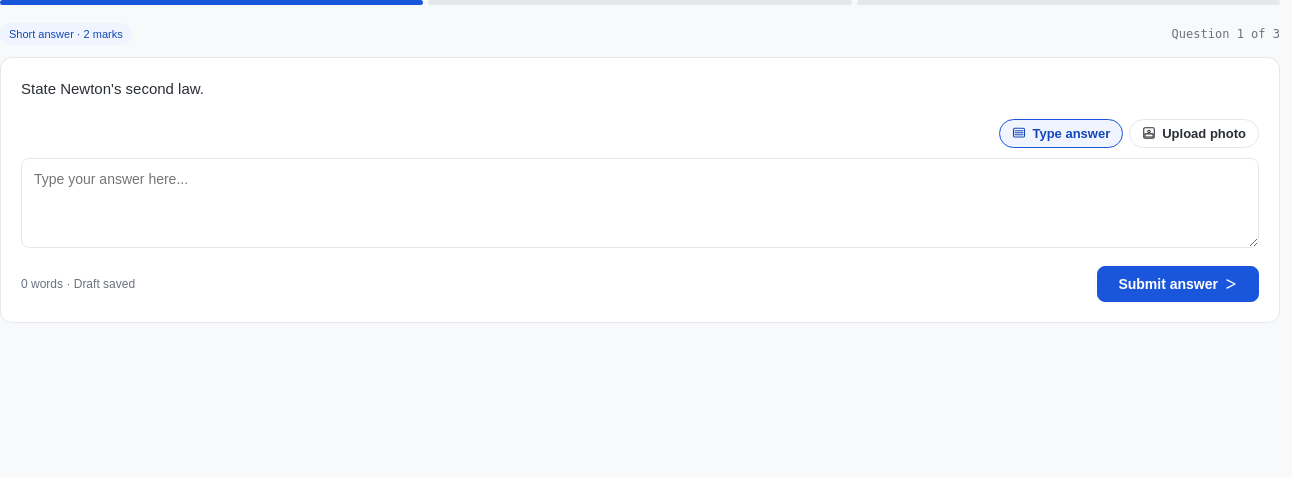
Scenario: short answers, drafts and self-marking › shows when AI marking returns when today's allowance is used up
Type "answer" into the text box with placeholder "Type your answer here..." at (640, 202), box [21,158,1259,248]
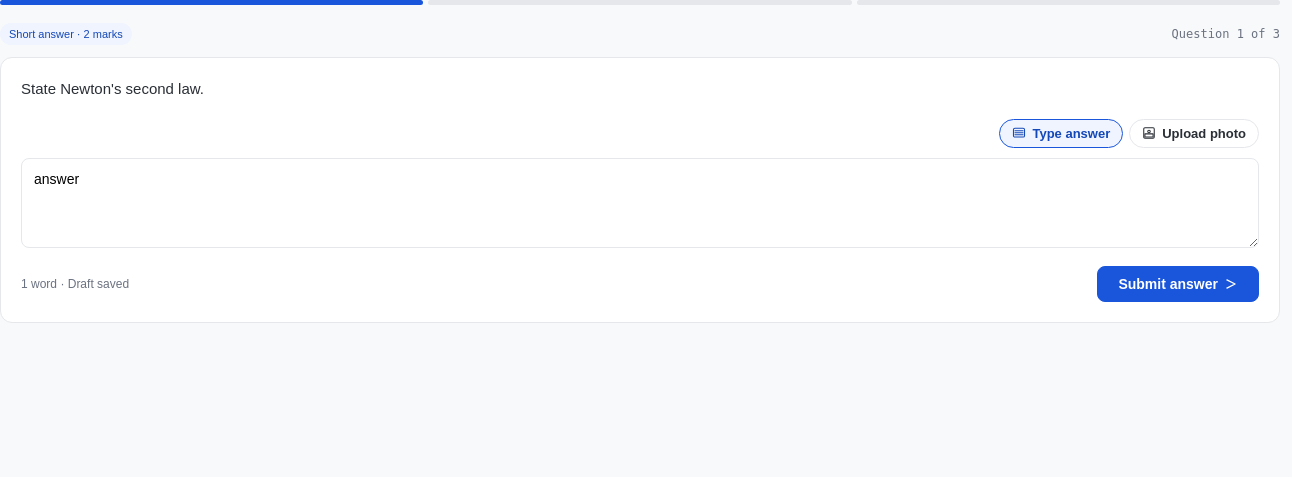
Click the button "Submit answer" at (1178, 284), box [1097,266,1259,302]
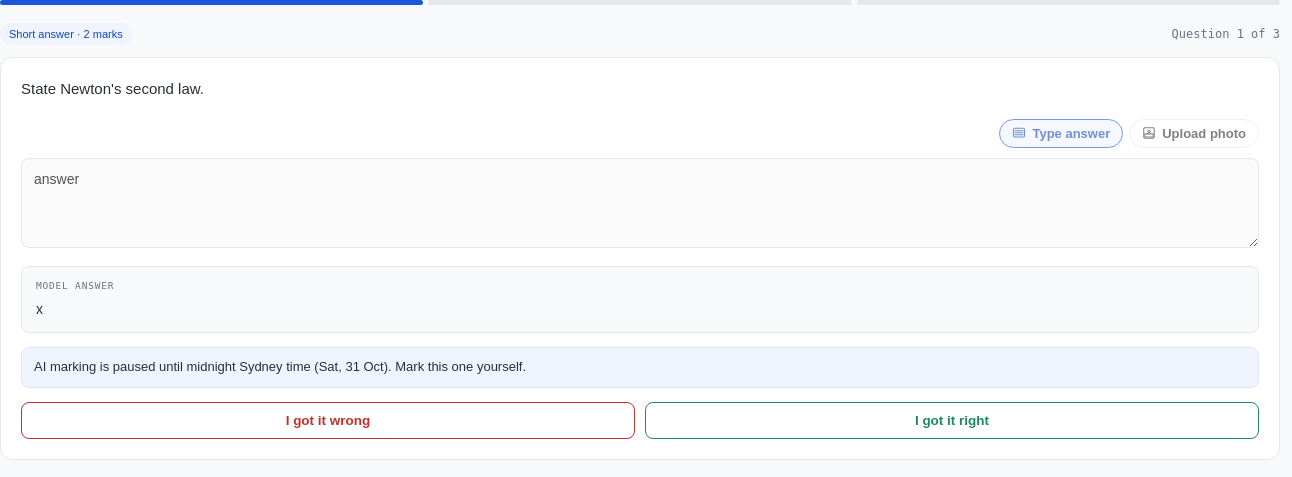
Expected: the text "AI marking is paused until midnight Sydney time" is shown, [34,359,526,374]
Expected: the button "I got it wrong" is shown, [21,402,635,439]
